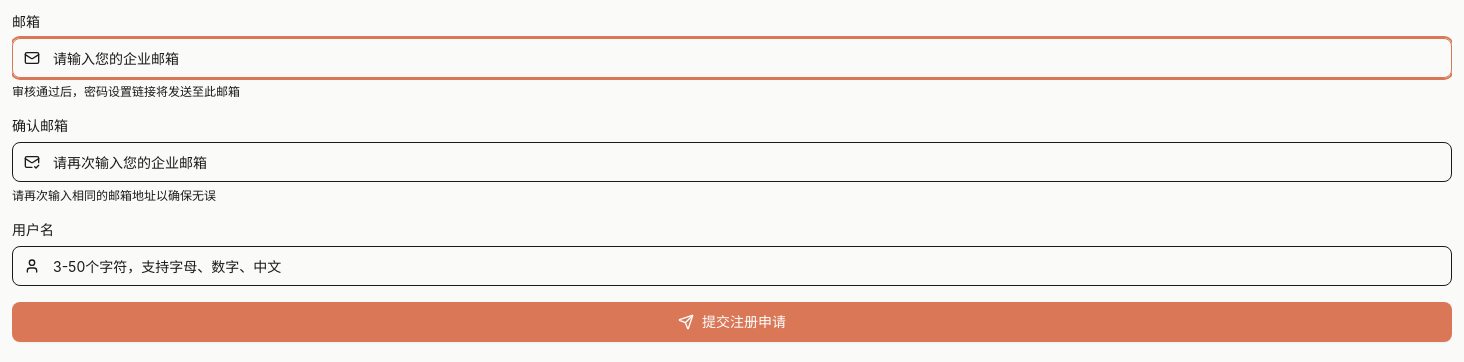
Scenario: RegisterApplyForm 组件 › 非法邮箱格式 - 显示错误
The width and height of the screenshot is (1464, 362).
Type "test@invalid" into the field with placeholder "请输入您的企业邮箱". click: point(732, 58)
box: [12,38,1452,78]
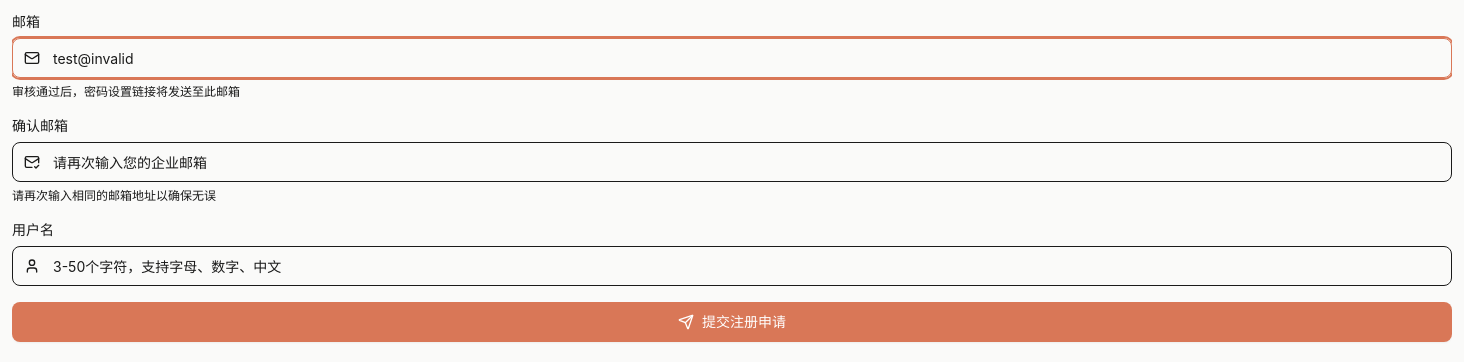
Type "test@invalid" into the field with placeholder "请再次输入您的企业邮箱". click: point(732, 162)
box: [12,142,1452,182]
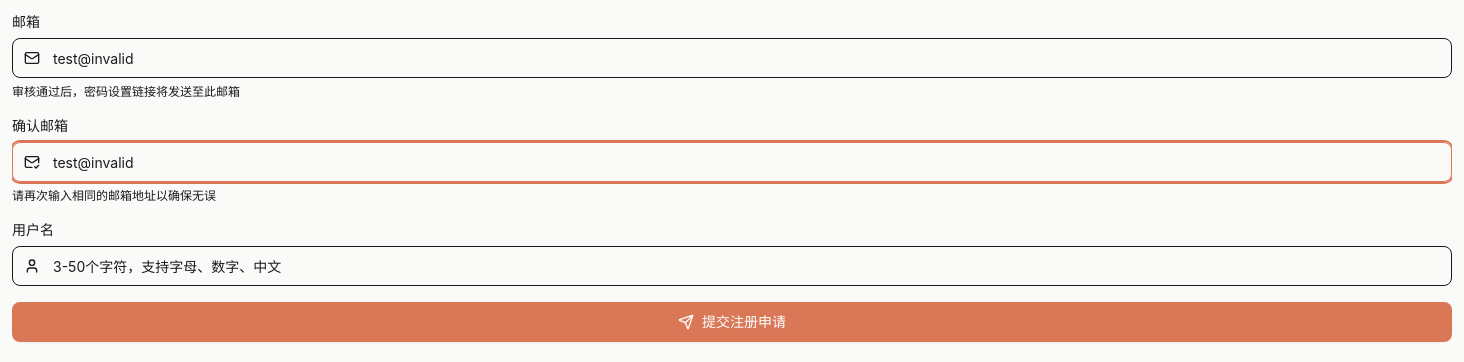
Type "testuser" into the field with placeholder "3-50个字符，支持字母、数字、中文". click: point(732, 266)
box: [12,246,1452,286]
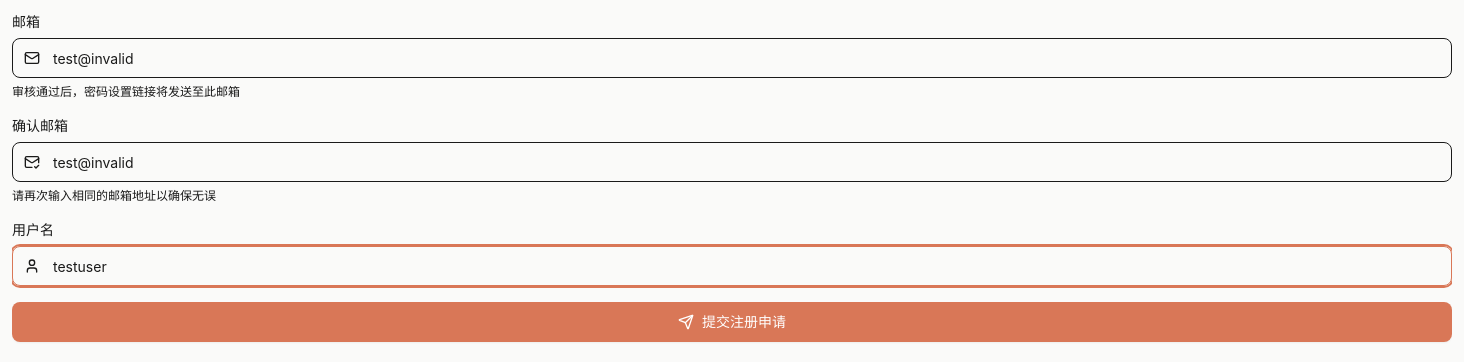
Click the button "提交注册申请". click: point(732, 322)
box: [12,302,1452,342]
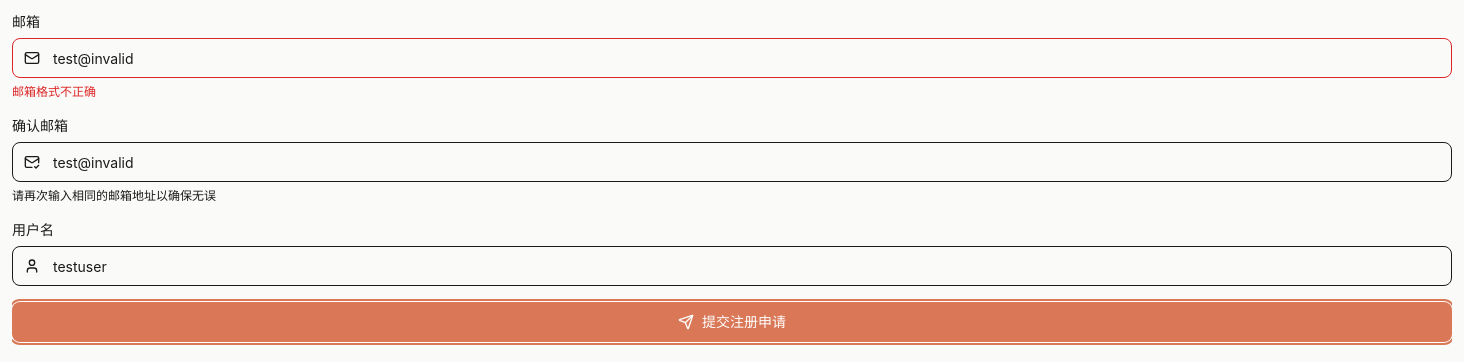
Now the text "邮箱格式不正确" is shown, box [12,84,96,99]
